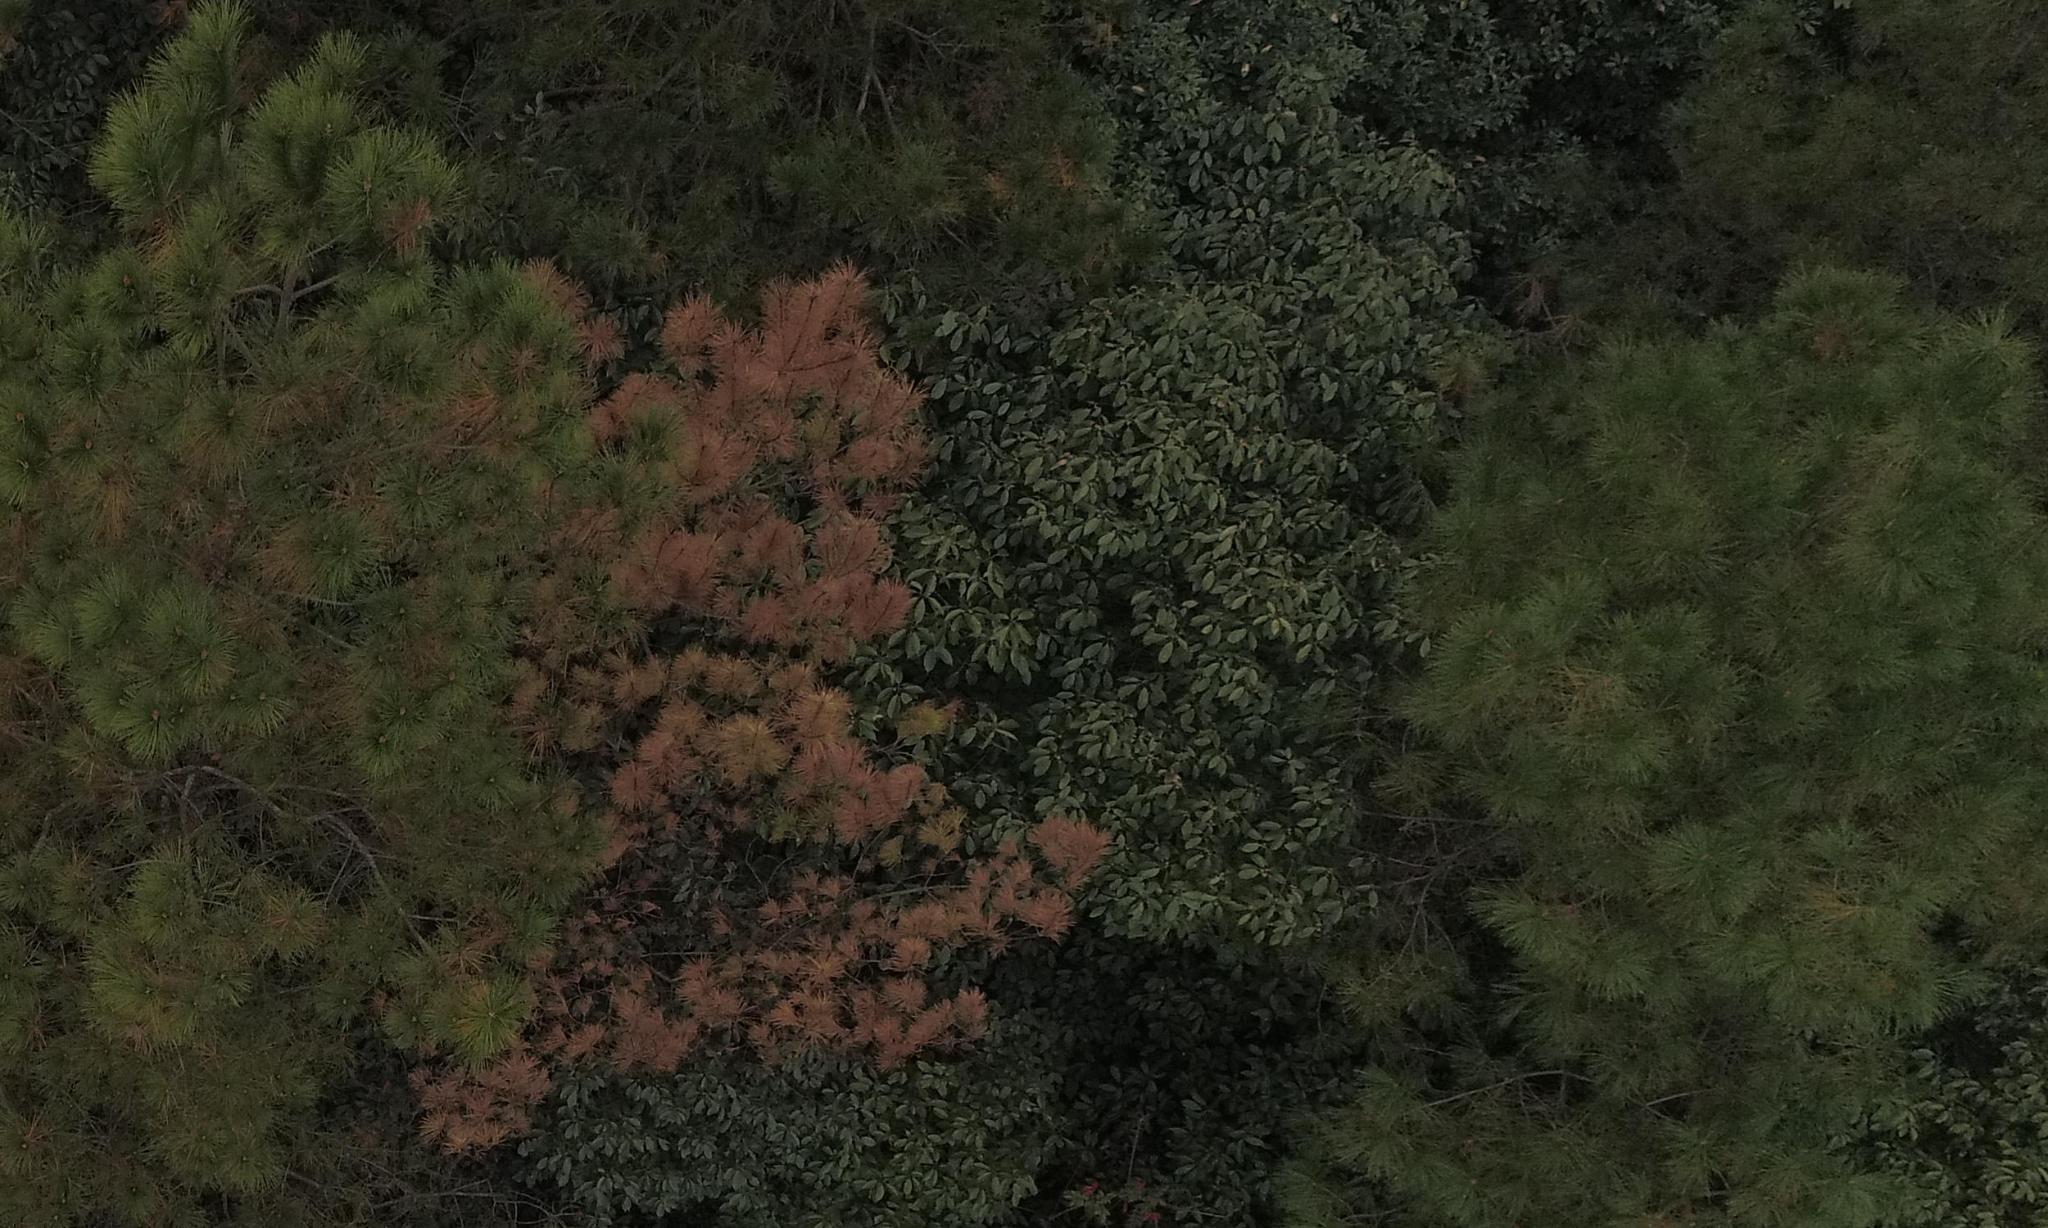heavy: (539, 244, 1093, 1096)
light: (37, 159, 475, 887)
